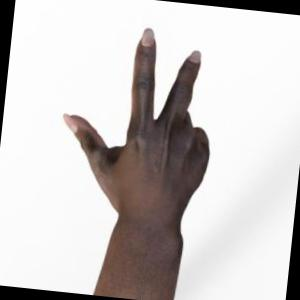scissors: (63, 28, 208, 300)
